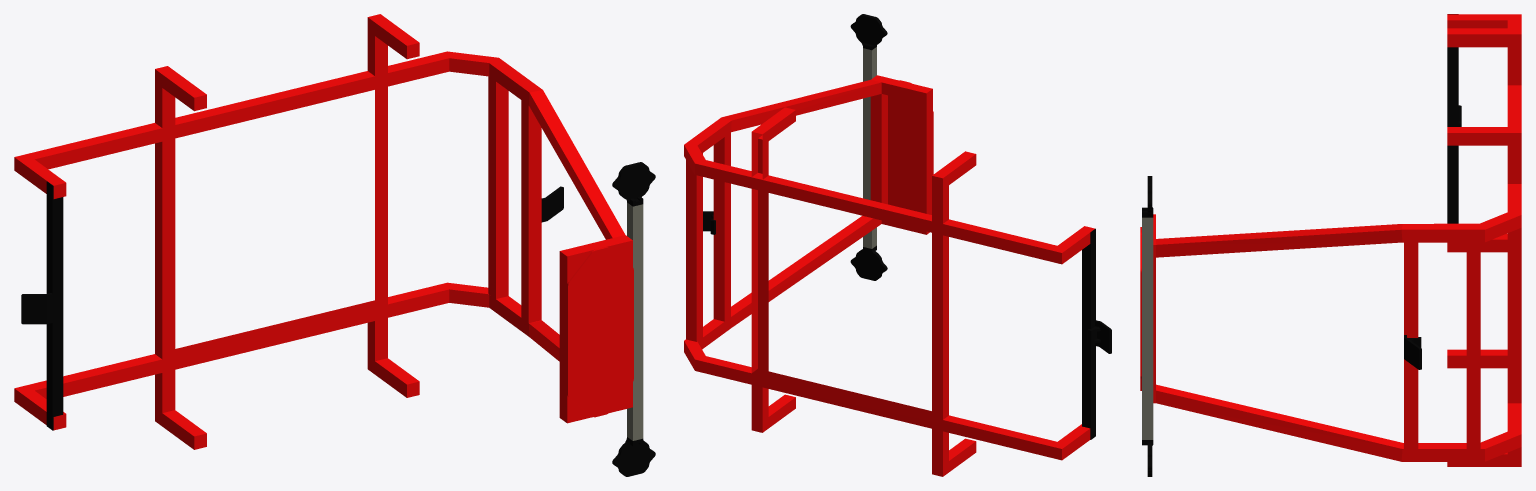
File: basket_sensors.obj
The picture shows the model from 3 angles, left to right: view 1: azimuth 30°, elevation 25°; view 2: azimuth 150°, elevation 25°; view 3: azimuth 270°, elevation 25°; orthographic projection. The views are drawn at different scales.
Parts seen in each view (by area): view 1: basket_chassis, basket_chassis_back_bar, gnss_antenna_ann_mb_00_support_bar, ublox_antenna_ann_mb_00_00_support_simplified_left, ublox_antenna_ann_mb_00_00_support_simplified_right, livox_360_rear_support_simplified; view 2: basket_chassis, basket_chassis_back_bar, gnss_antenna_ann_mb_00_support_bar, ublox_antenna_ann_mb_00_00_support_simplified_left, ublox_antenna_ann_mb_00_00_support_simplified_right, livox_360_rear_support_simplified; view 3: basket_chassis, gnss_antenna_ann_mb_00_support_bar, basket_chassis_back_bar, livox_360_front_support_simplified.
Part boxes in pixels (x1,y1,x2,y2): basket_chassis: [14, 14, 633, 449]; basket_chassis_back_bar: [46, 181, 63, 430]; gnss_antenna_ann_mb_00_support_bar: [627, 202, 643, 440]; ublox_antenna_ann_mb_00_00_support_simplified_left: [612, 162, 655, 206]; ublox_antenna_ann_mb_00_00_support_simplified_right: [612, 437, 655, 476]; livox_360_rear_support_simplified: [21, 293, 52, 324]; basket_chassis: [684, 75, 1094, 476]; basket_chassis_back_bar: [1082, 228, 1095, 439]; gnss_antenna_ann_mb_00_support_bar: [863, 47, 876, 248]; ublox_antenna_ann_mb_00_00_support_simplified_left: [850, 14, 887, 50]; ublox_antenna_ann_mb_00_00_support_simplified_right: [850, 245, 887, 280]; livox_360_rear_support_simplified: [1087, 320, 1111, 353]; basket_chassis: [1140, 14, 1521, 466]; gnss_antenna_ann_mb_00_support_bar: [1142, 217, 1153, 439]; basket_chassis_back_bar: [1447, 14, 1458, 223]; livox_360_front_support_simplified: [1404, 335, 1421, 369].
Size of the model in its own units: 1.02 by 0.655 by 0.678.
